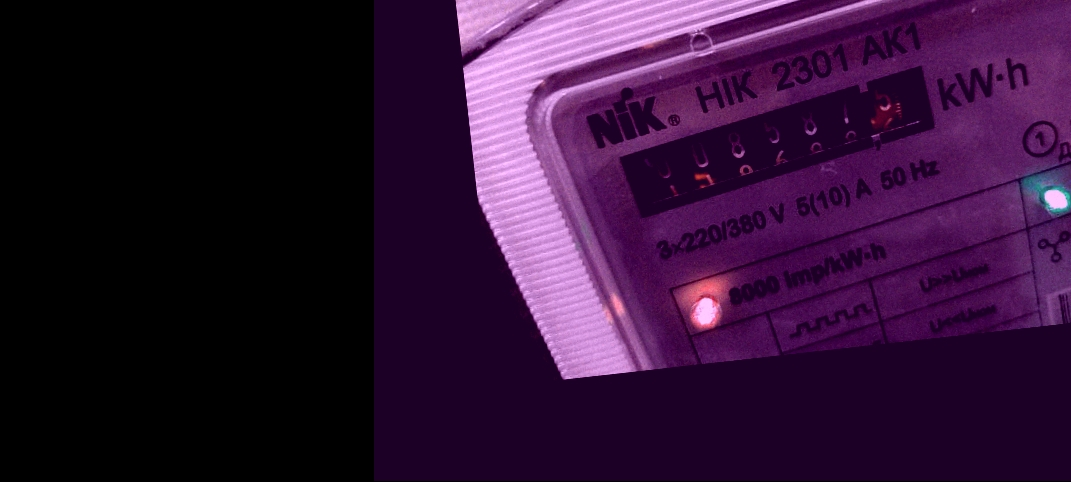0: (685, 134, 714, 170), (648, 146, 677, 180)
5: (759, 113, 785, 146), (870, 78, 895, 112)
6: (879, 113, 898, 132)
7: (832, 92, 858, 128)
8: (723, 126, 751, 160), (795, 103, 822, 138)
screen: (605, 61, 964, 220)
